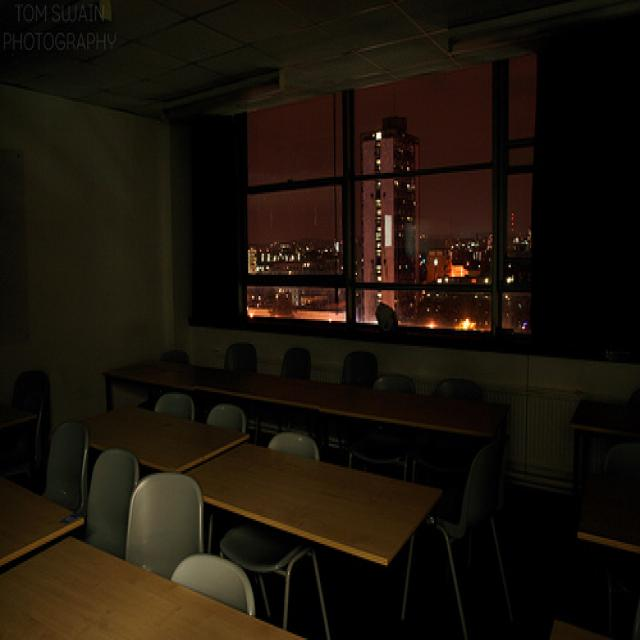Table: (116, 372, 445, 607), (139, 353, 563, 483)
chair: (131, 467, 222, 607), (88, 431, 154, 564)
